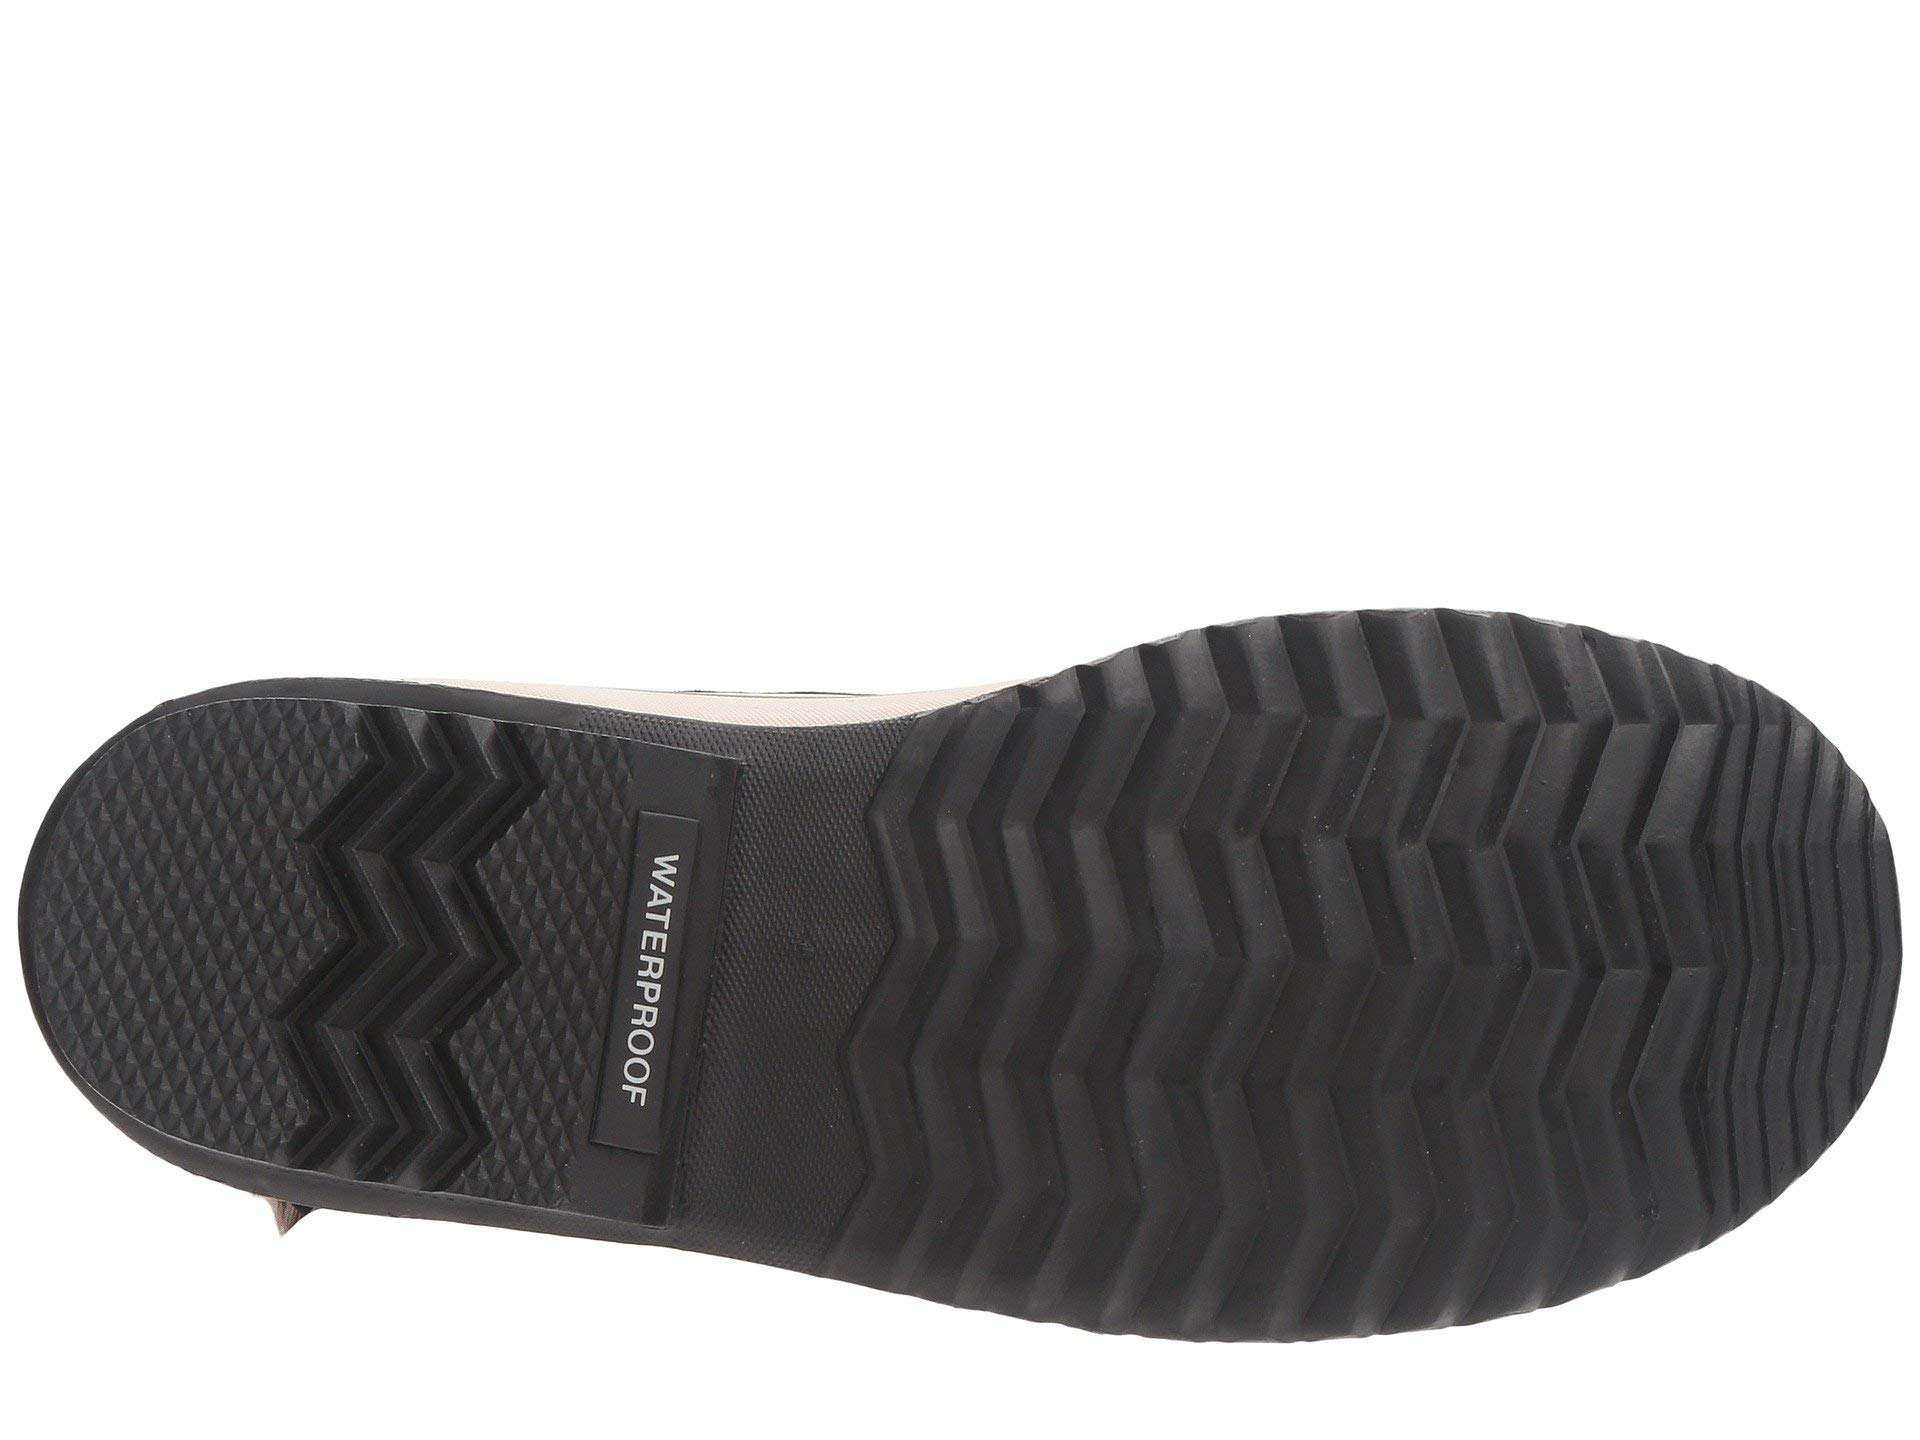chevron: (1265, 684, 1784, 1175), (189, 706, 526, 1128)
quad: (189, 706, 526, 1128)
